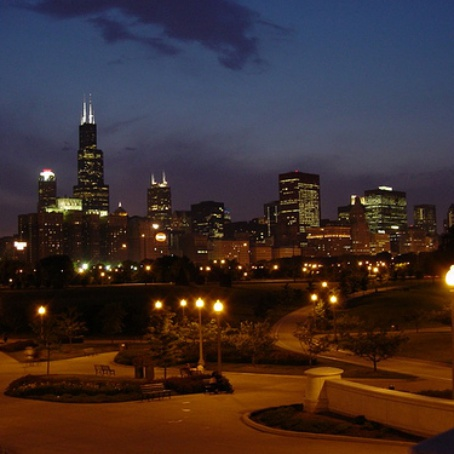building: (72, 100, 115, 216), (270, 170, 329, 232), (350, 186, 416, 240), (9, 211, 71, 267), (139, 174, 175, 229), (186, 197, 229, 241)
light pole: (213, 296, 230, 392), (194, 294, 209, 371), (33, 302, 50, 358), (324, 292, 341, 348), (303, 289, 320, 345)
sky: (1, 1, 443, 199)
